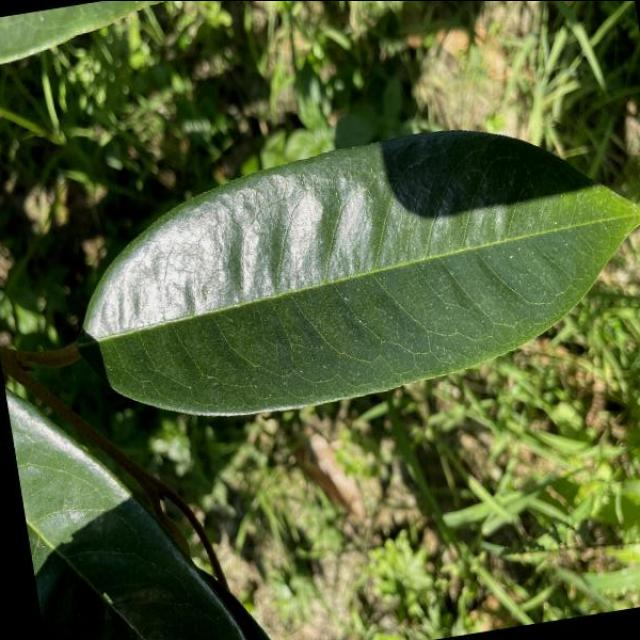No Disease: (38, 84, 640, 450)
